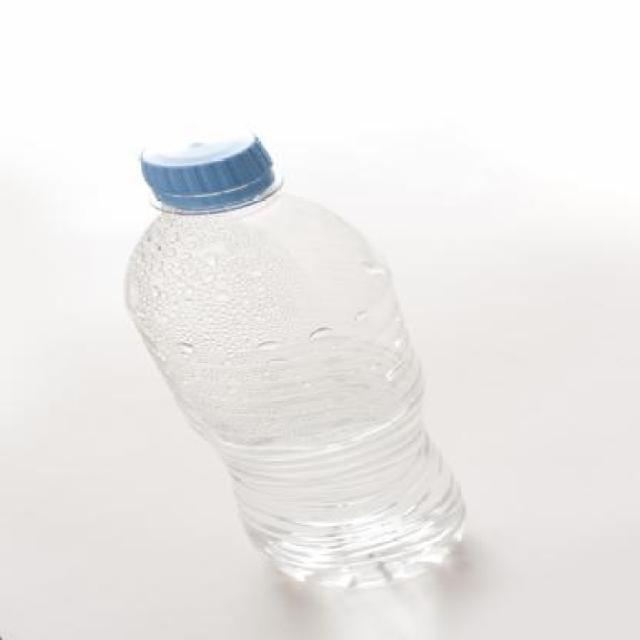bottle: (88, 108, 534, 626)
